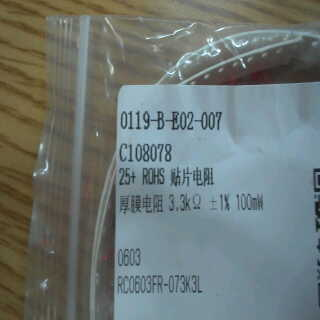3.3kO: (164, 190, 204, 217)
